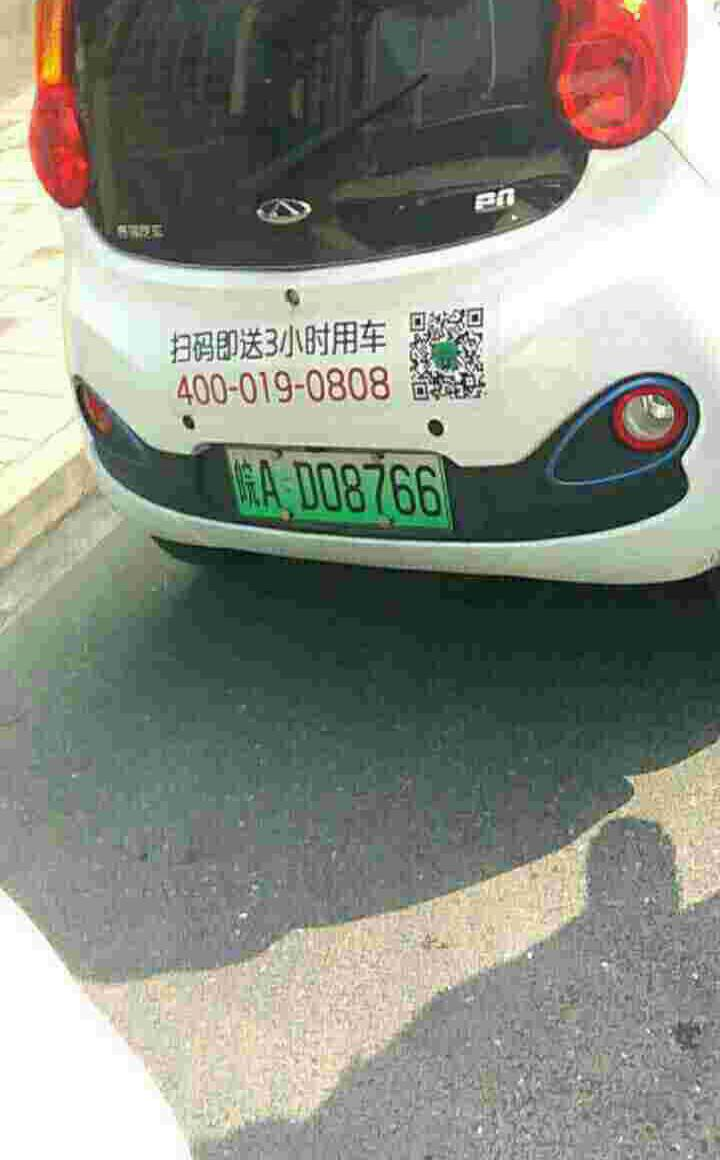car_id: (221, 444, 455, 528)
